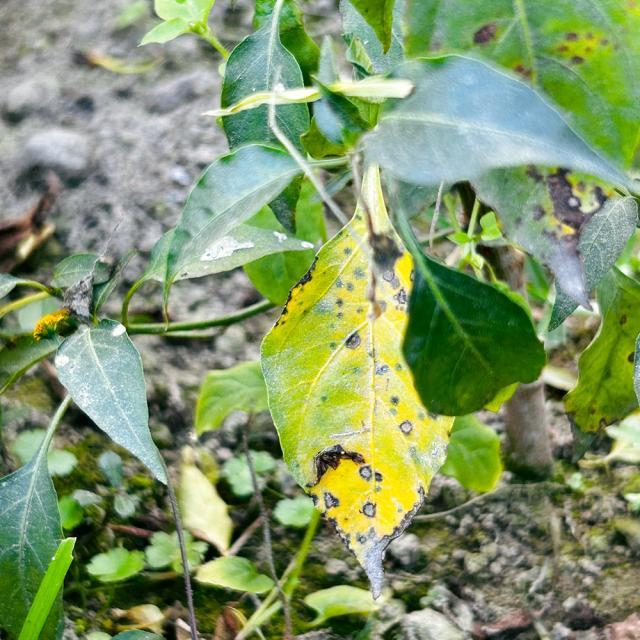Bercak Daun Serkospora: (258, 173, 457, 599)
